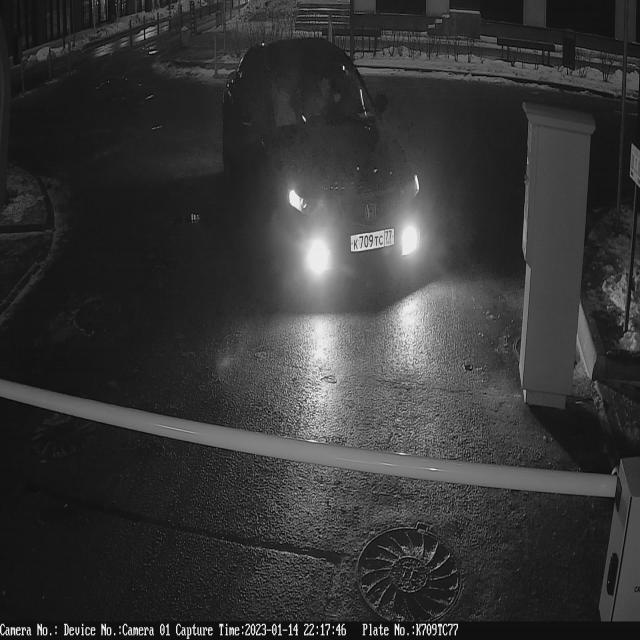car-plate-numbers: (349, 223, 402, 261)
